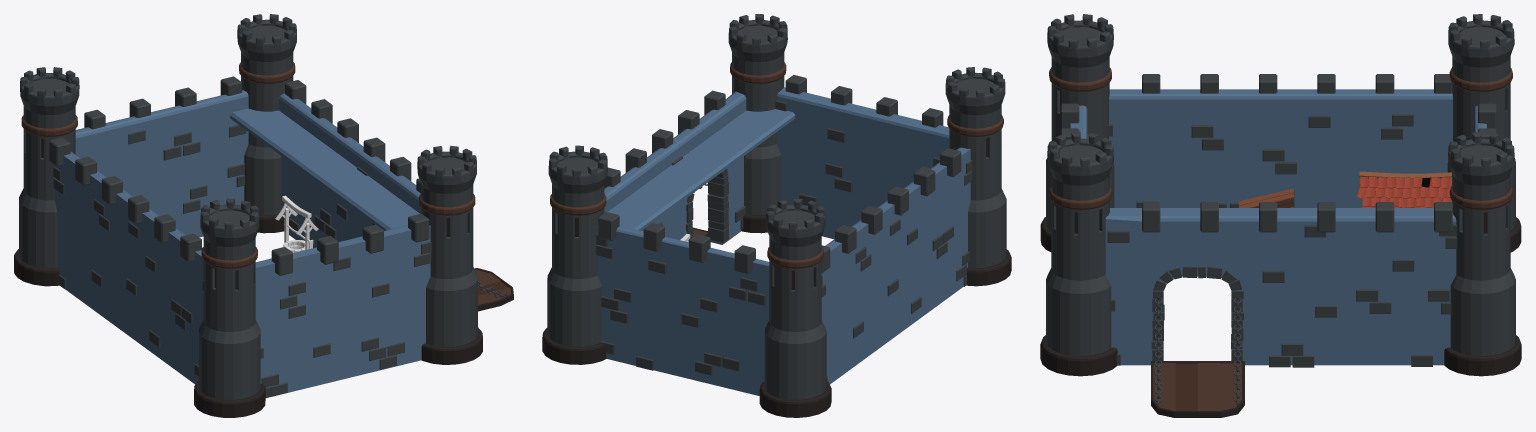
The model's file is castle.fbx.
3 views of the same model, side by side, from view 1: azimuth 30°, elevation 25°; view 2: azimuth 150°, elevation 25°; view 3: azimuth 270°, elevation 25° (orthographic). The views are drawn at different scales.
Parts seen in each view (by area): view 1: medieval_Walls, medieval_Tower, medieval_Tower.003, medieval_Tower.002, medieval_Tower.001, medieval_Gate, medieval_Well; view 2: medieval_Walls, medieval_Tower.002, medieval_Tower.001, medieval_Tower, medieval_Tower.003; view 3: medieval_Walls, medieval_Tower.003, medieval_Tower.001, medieval_Tower, medieval_Tower.002, medieval_Gate, medieval_House, wooden_Hut.
Boxes of the visible parts, box(x1,y1,x2,y2) form: medieval_Walls: box(49, 76, 431, 397); medieval_Tower: box(194, 198, 265, 417); medieval_Tower.003: box(417, 145, 482, 364); medieval_Tower.002: box(14, 67, 79, 286); medieval_Tower.001: box(237, 14, 296, 233); medieval_Gate: box(474, 268, 513, 311); medieval_Well: box(275, 195, 318, 252); medieval_Walls: box(596, 75, 972, 395); medieval_Tower.002: box(759, 198, 831, 417); medieval_Tower.001: box(542, 145, 607, 364); medieval_Tower: box(945, 67, 1011, 286); medieval_Tower.003: box(728, 14, 787, 233); medieval_Walls: box(1060, 74, 1496, 367); medieval_Tower.003: box(1040, 132, 1117, 376); medieval_Tower.001: box(1444, 132, 1521, 376); medieval_Tower: box(1040, 14, 1114, 251); medieval_Tower.002: box(1447, 14, 1521, 252); medieval_Gate: box(1151, 295, 1244, 417); medieval_House: box(1357, 171, 1451, 207); wooden_Hut: box(1239, 188, 1294, 207).
Size of what is drawn, in the model's own units: 1569 by 815 by 1647.
